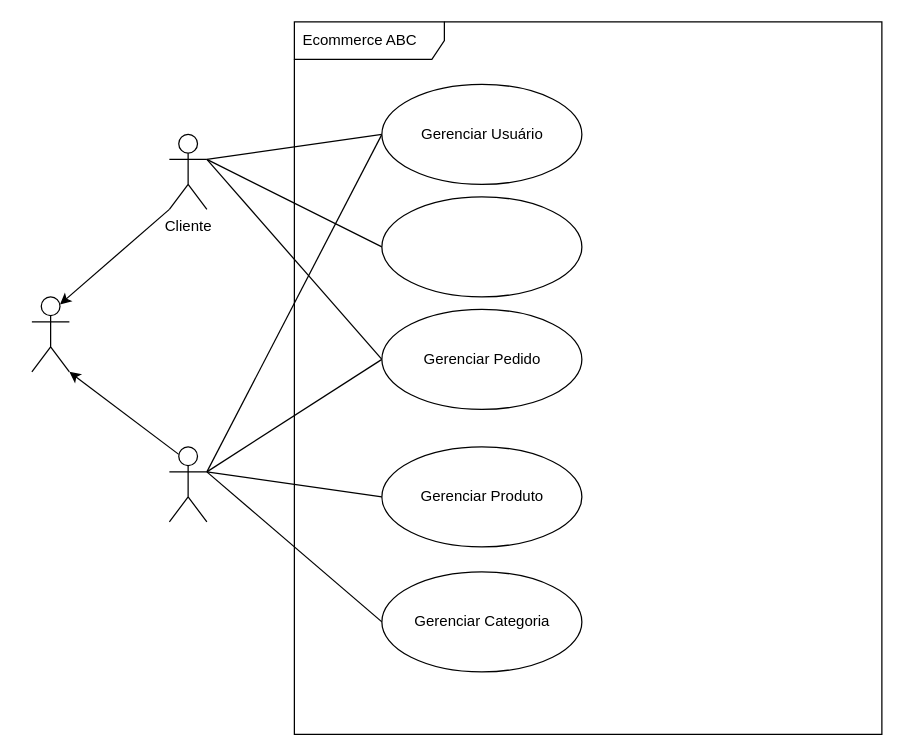
The diagram is 904 pixels wide and 756 high, and some of its shapes have lost their labels. Here are the shapes that lost their labels. From the top down, the box of each, then its label:
(381, 196, 582, 297): Gerenciar Carrinho
(31, 296, 69, 372): Usuários
(168, 446, 207, 522): ADM
